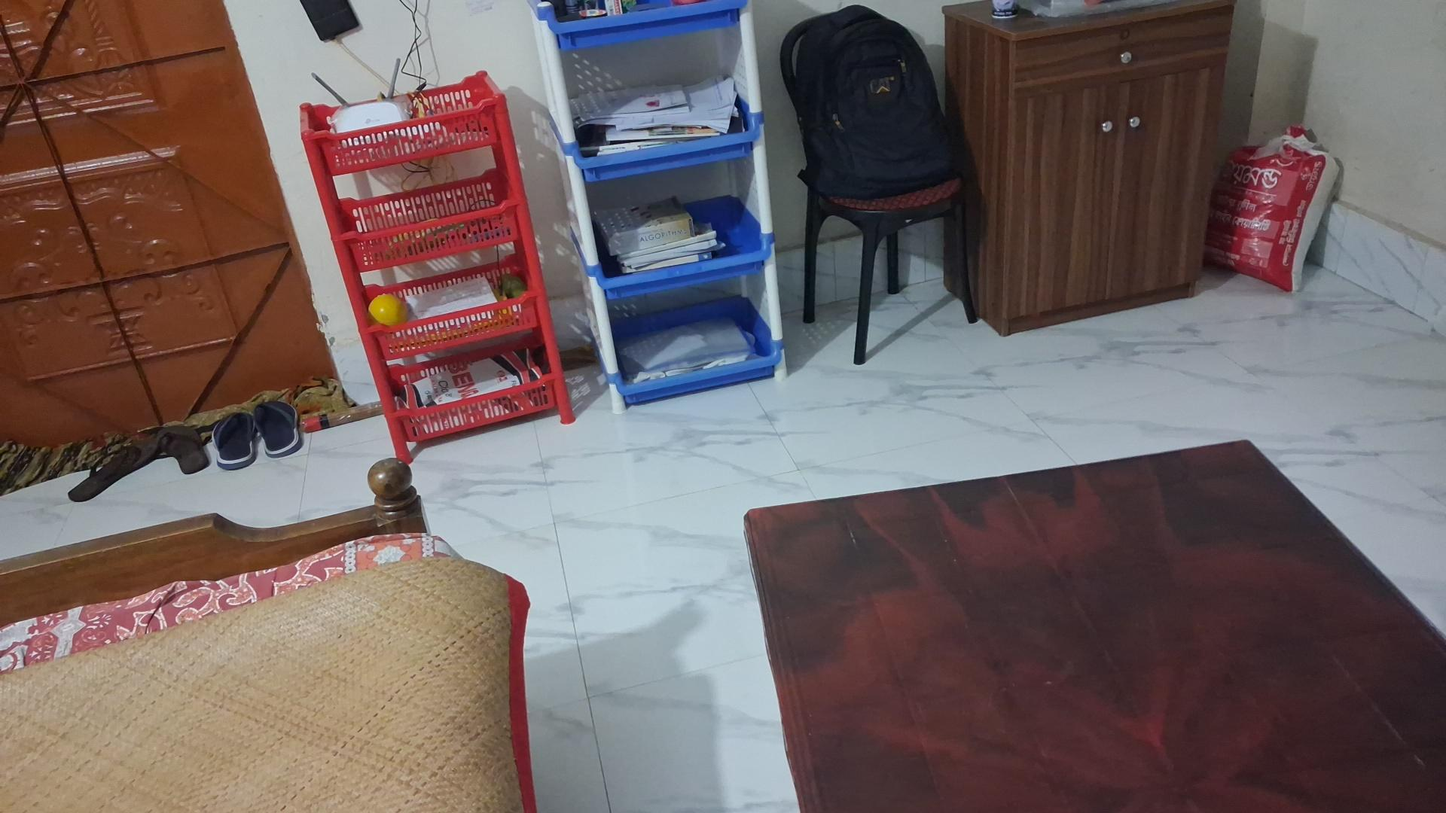Bag: (792, 19, 956, 194), (1220, 118, 1345, 288)
Chair: (784, 24, 975, 368)
Footwear: (61, 427, 210, 504), (213, 403, 299, 470)
Rack: (529, 0, 789, 408), (298, 72, 573, 457)
Table: (743, 440, 1446, 813)
